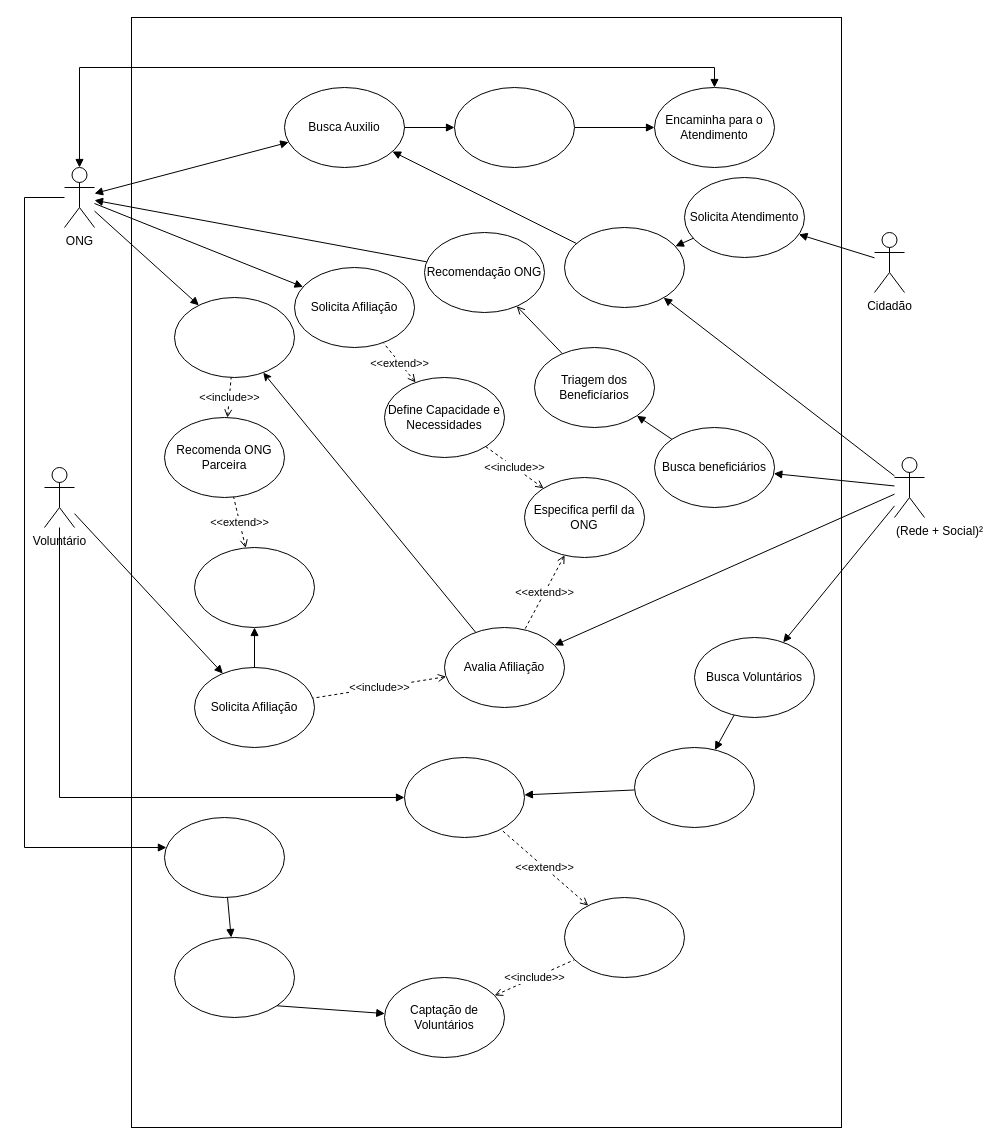
The diagram is 1001 pixels wide and 1145 high, and some of its shapes have lost their labels. The shapes that lost their labels are listed below. From the top down, each one's centre as x and y in pixels, then its label:
At (514,127): "Planeja Ações de Atendimento".
At (624,267): "Realiza Triagem do Beneficíario".
At (234,337): "Especifica perfil do Voluntário".
At (254,587): "Aceite de Recomendação de ONG".
At (464,797): "Avalia Convite de Campanha".
At (694,787): "Recomenda Voluntários".
At (224,857): "Abrir Campanha Solidária".
At (624,937): "Realiza Inscrição na Campanha".
At (234,977): "Divulga Perfil de Voluntários".
